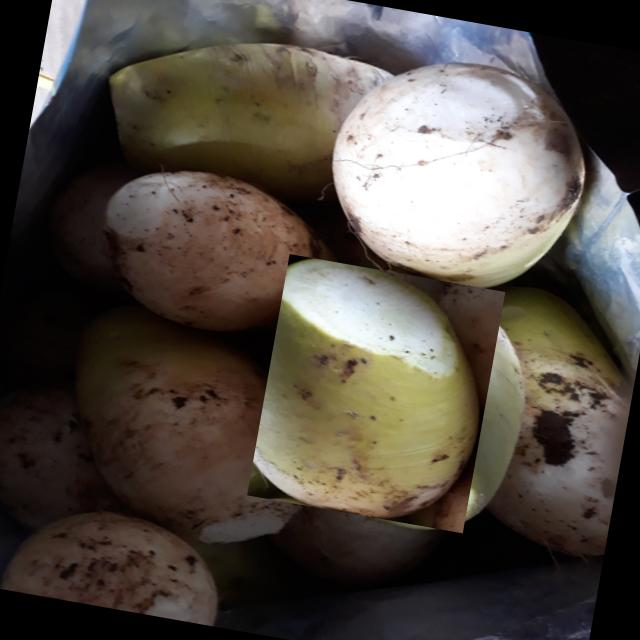radish: (247, 253, 506, 533), (322, 60, 584, 288), (95, 24, 342, 192)
